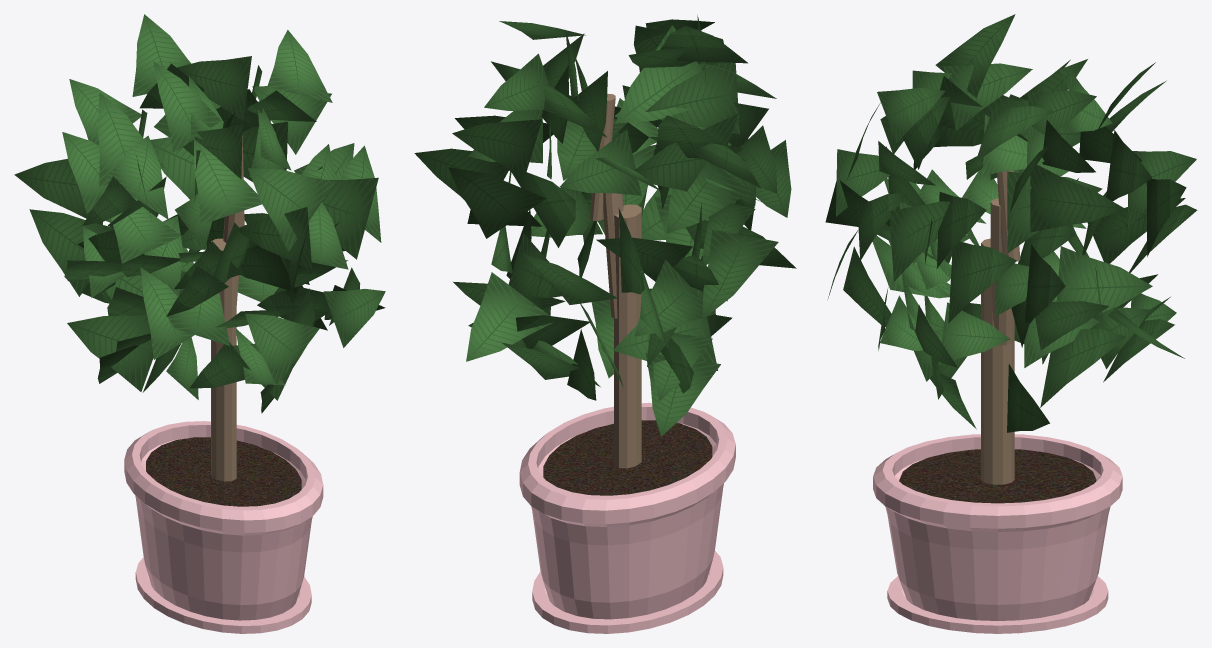
File: plant_large.glb
3 views of the same model, side by side, from view 1: azimuth 30°, elevation 25°; view 2: azimuth 150°, elevation 25°; view 3: azimuth 270°, elevation 25° (orthographic). The views are drawn at different scales.
Parts seen in each view (by area): view 1: plantbig_hd_leaf, plantbig_hd_pot, plantbig_hd_soil, plantbig_hd_trunk; view 2: plantbig_hd_leaf, plantbig_hd_pot, plantbig_hd_soil, plantbig_hd_trunk; view 3: plantbig_hd_leaf, plantbig_hd_pot, plantbig_hd_soil, plantbig_hd_trunk.
Part boxes in pixels (x1,y1,x2,y2): plantbig_hd_leaf: [14, 14, 385, 413]; plantbig_hd_pot: [124, 421, 323, 633]; plantbig_hd_soil: [146, 437, 301, 506]; plantbig_hd_trunk: [211, 135, 244, 481]; plantbig_hd_leaf: [414, 15, 796, 436]; plantbig_hd_pot: [519, 402, 735, 633]; plantbig_hd_soil: [543, 420, 712, 495]; plantbig_hd_trunk: [590, 94, 641, 468]; plantbig_hd_leaf: [825, 14, 1197, 432]; plantbig_hd_pot: [873, 434, 1122, 633]; plantbig_hd_soil: [899, 449, 1096, 503]; plantbig_hd_trunk: [981, 170, 1020, 484].
Bounding box in the file's own units: 0.984 × 1.65 × 0.991.
4 materials, 2 textured.
